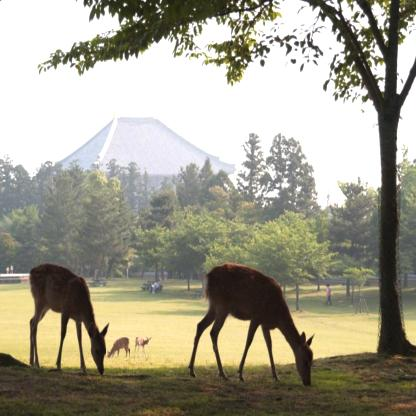Deer: (188, 263, 314, 388), (29, 262, 108, 377), (106, 337, 130, 359), (134, 337, 150, 359)
